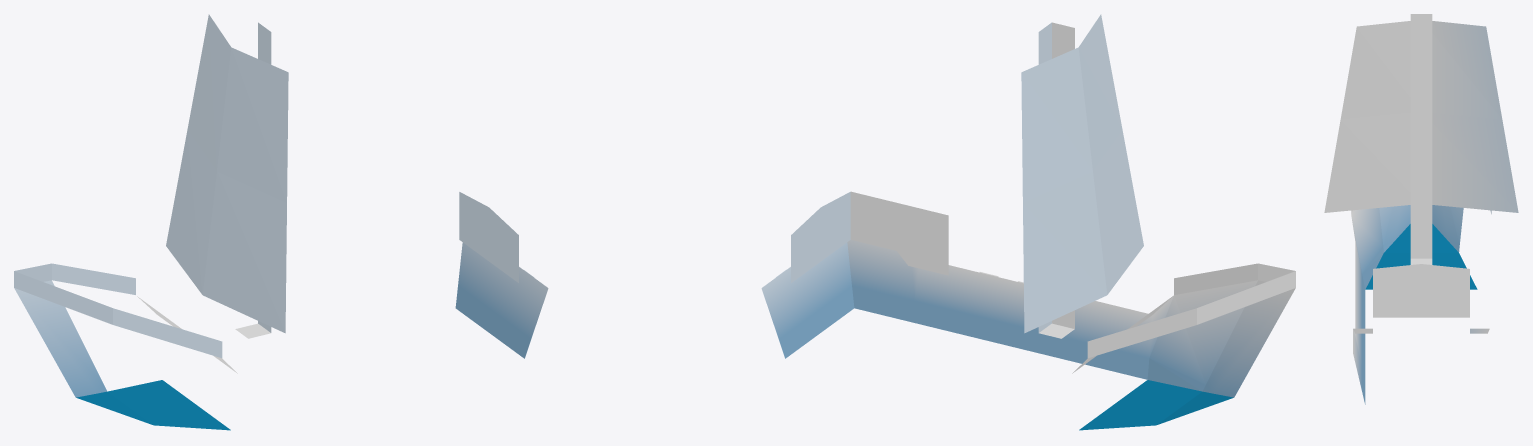
The picture shows the model from 3 angles, left to right: view 1: azimuth 30°, elevation 25°; view 2: azimuth 150°, elevation 25°; view 3: azimuth 270°, elevation 25°; orthographic projection. The views are drawn at different scales.
Visible parts, largest first — view 1: object0; view 2: object0; view 3: object0.
Boxes of the visible parts, x1,y1,x2,y2 form: object0: (14,14,548,430); object0: (761,14,1295,430); object0: (1324,14,1518,404).
Size of the model in its own units: 5837 by 3456 by 2074.
